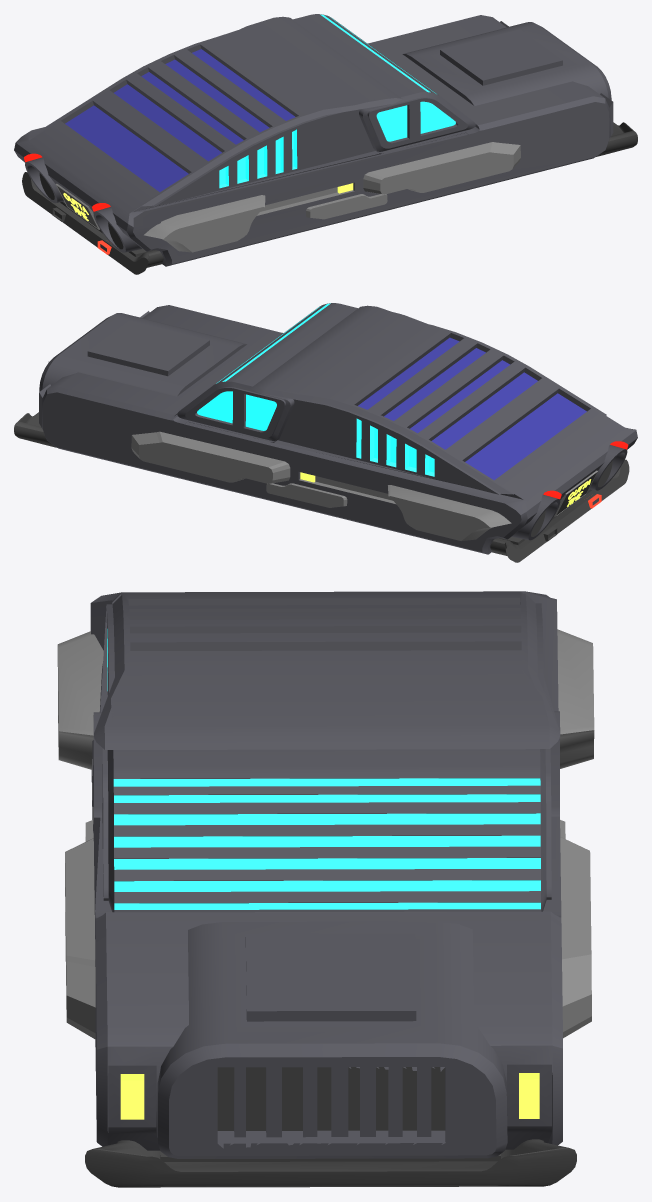
Rendered from cloud_punk_hova.glb.
3 renders of one model, top to bottom at view 1: azimuth 30°, elevation 25°; view 2: azimuth 150°, elevation 25°; view 3: azimuth 270°, elevation 25°, orthographic. The views are drawn at different scales.
Visible parts, largest first — view 1: Cube.002; view 2: Cube.002; view 3: Cube.002.
Part boxes in pixels (x1,y1,x2,y2): Cube.002: [14, 14, 637, 274]; Cube.002: [14, 303, 637, 562]; Cube.002: [57, 591, 594, 1187].
Bounding box in the file's own units: 5.44 × 1.18 × 2.45.
